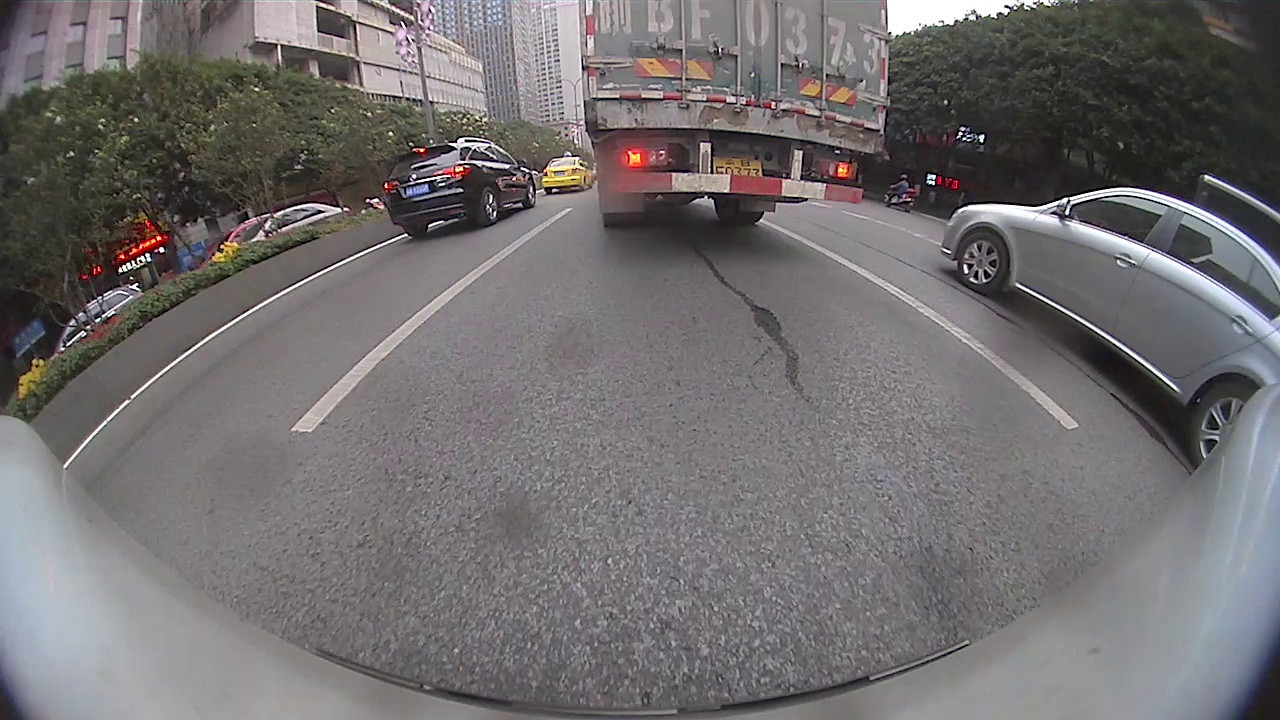bus: (1192, 172, 1279, 264)
car: (937, 180, 1279, 466), (383, 135, 536, 237), (544, 156, 593, 190)
front: (957, 230, 1010, 296), (522, 181, 536, 210)
rear: (1181, 379, 1261, 471), (475, 184, 501, 228)
rider: (886, 174, 915, 209)
truck: (577, 0, 891, 226)
